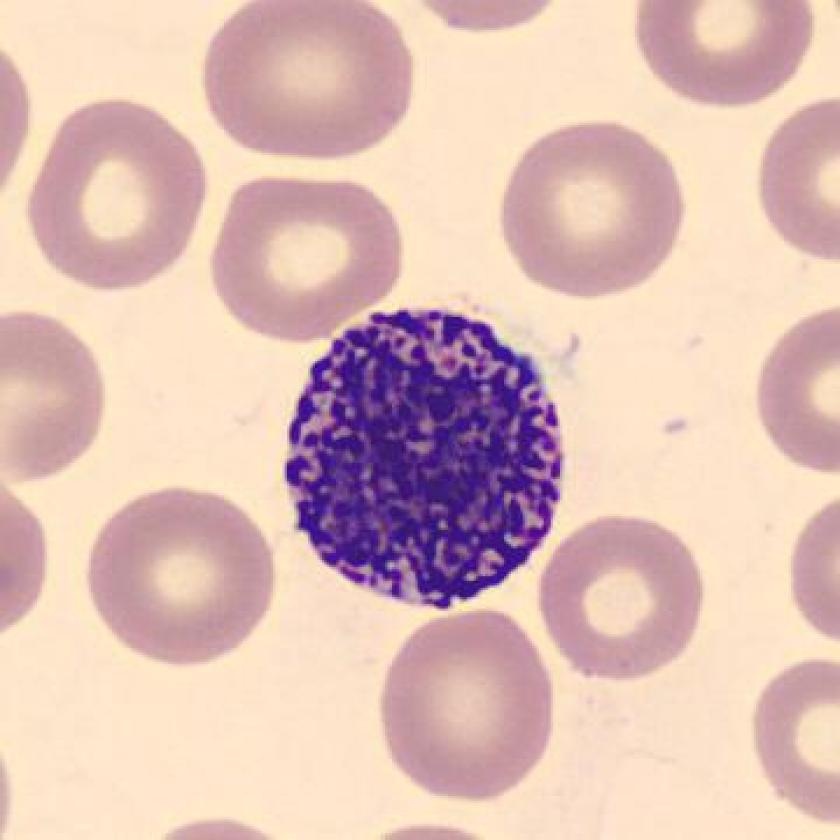basophil: (279, 297, 577, 619)
